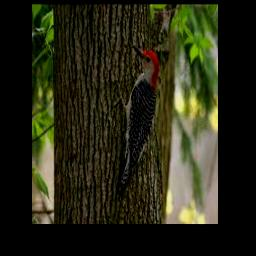Woodpecker: (113, 44, 159, 191)
